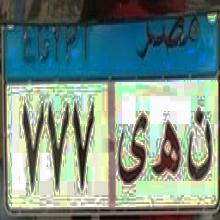7: (72, 100, 95, 190), (46, 102, 69, 192), (21, 103, 44, 191)
haa: (152, 115, 181, 186)
noon: (186, 107, 212, 186)
yaa: (117, 114, 149, 186)
